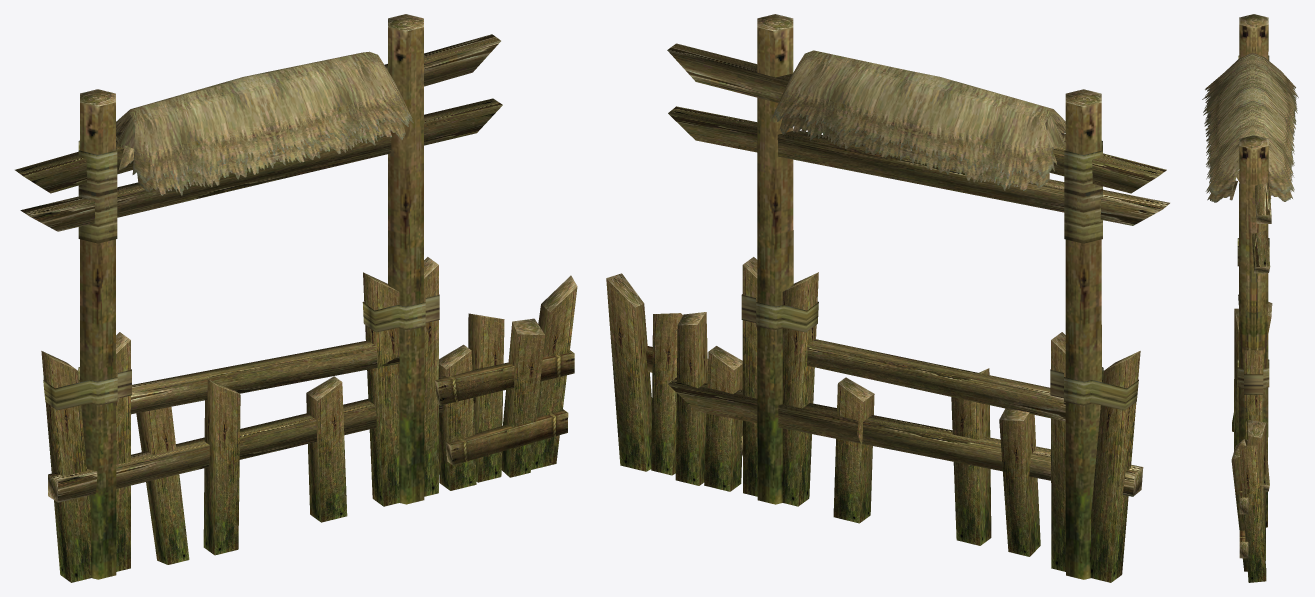
The model's file is S_Build_Cbcl017.FBX.
3 views of the same model, side by side, from view 1: azimuth 30°, elevation 25°; view 2: azimuth 150°, elevation 25°; view 3: azimuth 270°, elevation 25° (orthographic). The views are drawn at different scales.
Visible parts, largest first — view 1: S_Build_Cbcl017; view 2: S_Build_Cbcl017; view 3: S_Build_Cbcl017.
Boxes of the visible parts, x1=… form: S_Build_Cbcl017: x1=15, y1=14, x2=577, y2=582; S_Build_Cbcl017: x1=606, y1=14, x2=1169, y2=582; S_Build_Cbcl017: x1=1202, y1=14, x2=1298, y2=582.
Size of the model in its own units: 918 by 180 by 752.
